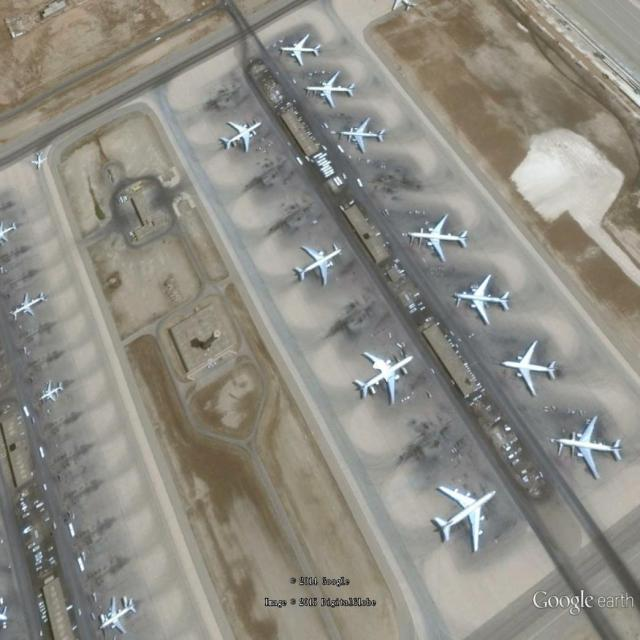aircraft: (432, 487, 498, 555), (555, 416, 623, 481), (352, 351, 415, 406), (501, 341, 558, 399), (453, 273, 512, 327), (407, 213, 470, 263), (292, 247, 344, 289), (305, 70, 356, 111), (339, 117, 388, 154), (279, 34, 324, 68), (99, 597, 138, 635), (220, 121, 263, 154), (11, 292, 47, 318), (41, 382, 66, 403), (1, 221, 18, 245), (31, 152, 48, 171)
